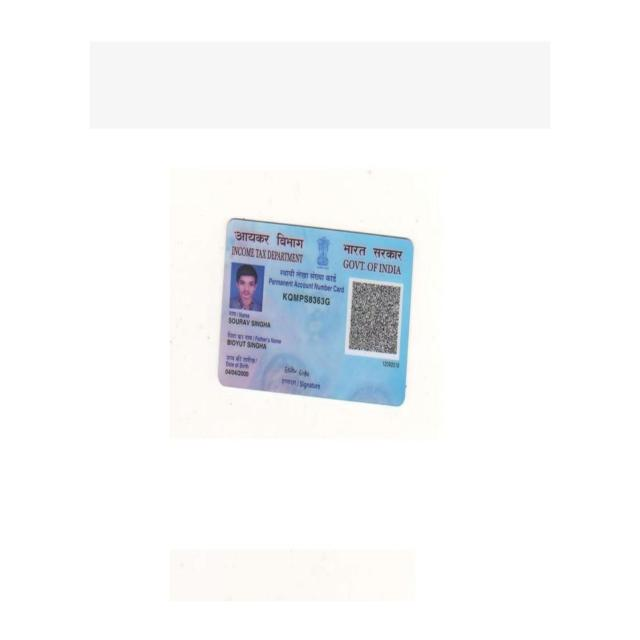pan_card: (218, 218, 412, 406)
